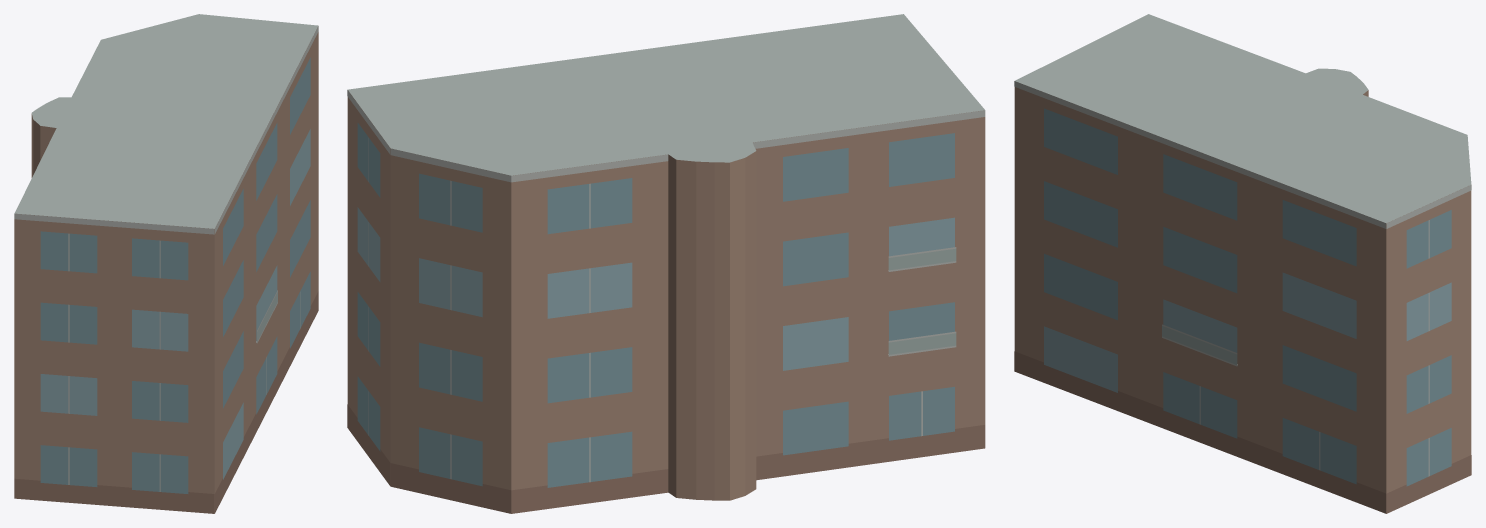
Rendered from survey-upis-32885617.glb.
The picture shows the model from 3 angles, left to right: view 1: azimuth 30°, elevation 25°; view 2: azimuth 150°, elevation 25°; view 3: azimuth 270°, elevation 25°; orthographic projection. The views are drawn at different scales.
Parts seen in each view (by area): view 1: survey-upis-32885617.tmp; view 2: survey-upis-32885617.tmp; view 3: survey-upis-32885617.tmp.
Boxes of the visible parts, <box> form: survey-upis-32885617.tmp: <box>14,14,318,513</box>; survey-upis-32885617.tmp: <box>347,14,985,513</box>; survey-upis-32885617.tmp: <box>1014,14,1471,513</box>.
Bounding box in the file's own units: 18.86 × 12.2 × 17.4.
